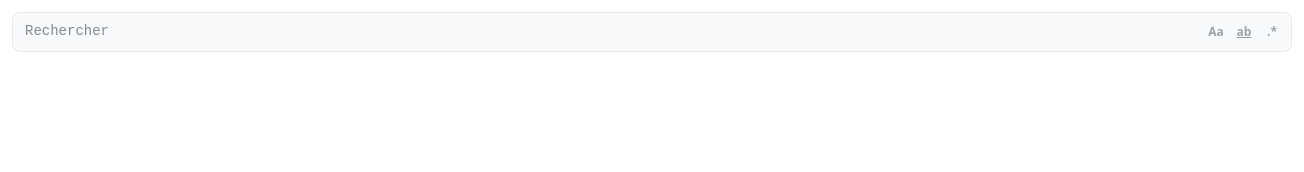
SearchBar - Controls functionality › shows clear button when text is present
Note: Type text
Type "test" into the text box with placeholder "Rechercher". click: [652, 32]
box: [12, 12, 1292, 52]
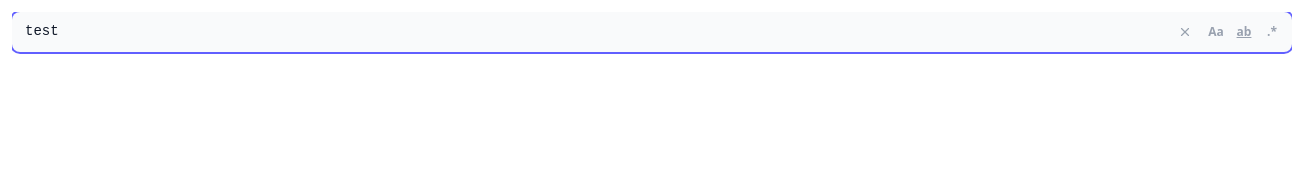
expect the button titled "Effacer" is shown: met, box [1174, 21, 1196, 43]
